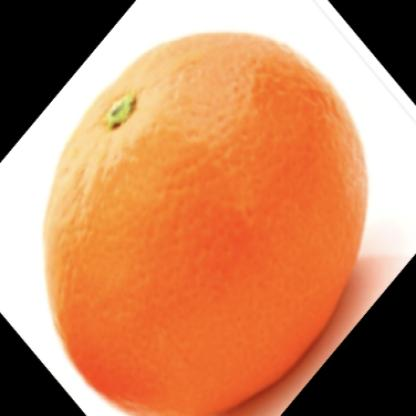fresh: (43, 29, 367, 416)
